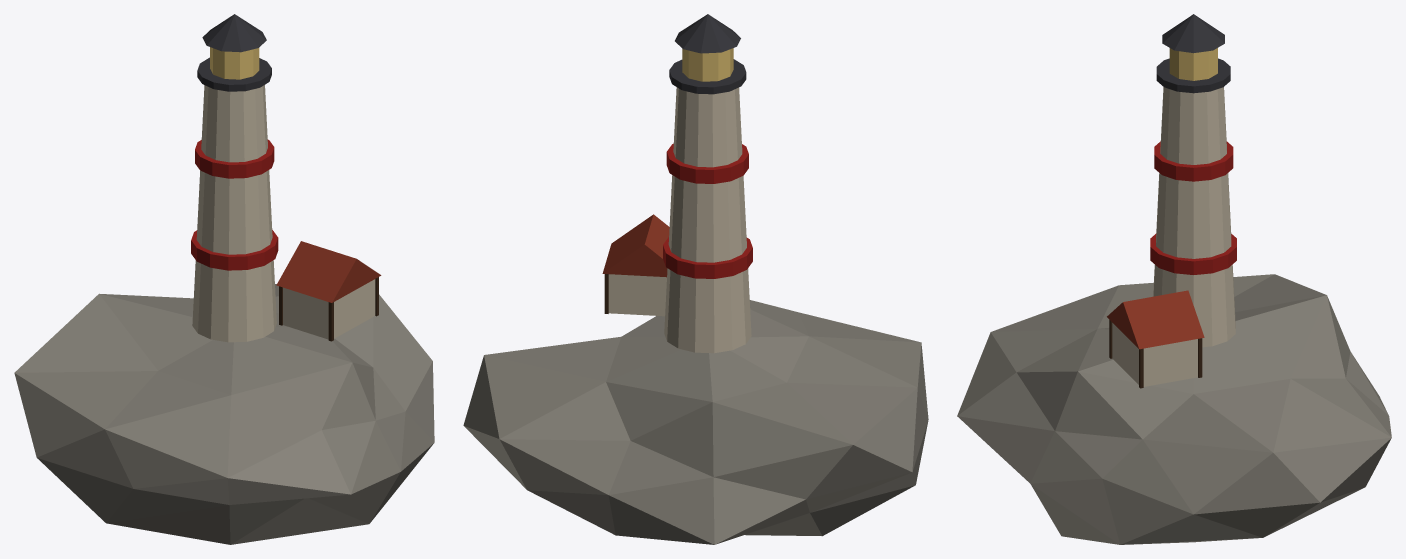
File: arch_lantern_rock.glb
3 views of the same model, side by side, from view 1: azimuth 30°, elevation 25°; view 2: azimuth 150°, elevation 25°; view 3: azimuth 270°, elevation 25° (orthographic). The views are drawn at different scales.
Visible parts, largest first — view 1: geometry_0; view 2: geometry_0; view 3: geometry_0.
Boxes of the visible parts, x1,y1,x2,y2 form: geometry_0: (14, 14, 434, 544); geometry_0: (463, 14, 928, 544); geometry_0: (957, 14, 1391, 544).
Size of the model in its own units: 36.7 by 42.83 by 34.3.
